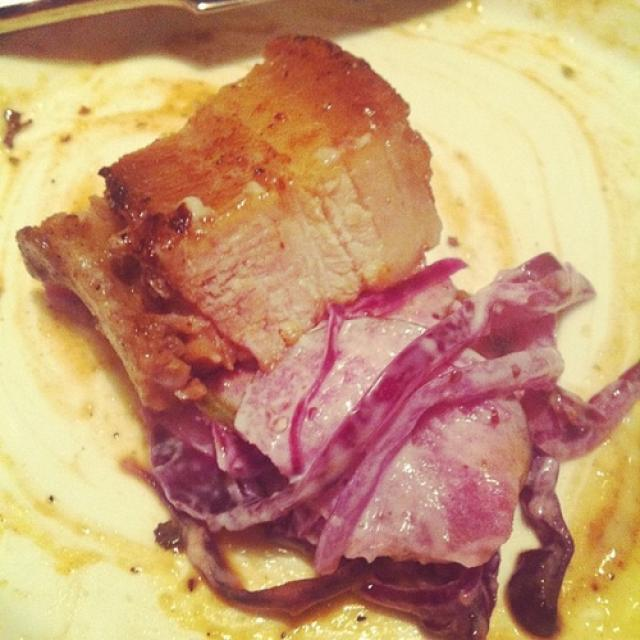牛肉菜式: (44, 20, 488, 434)
